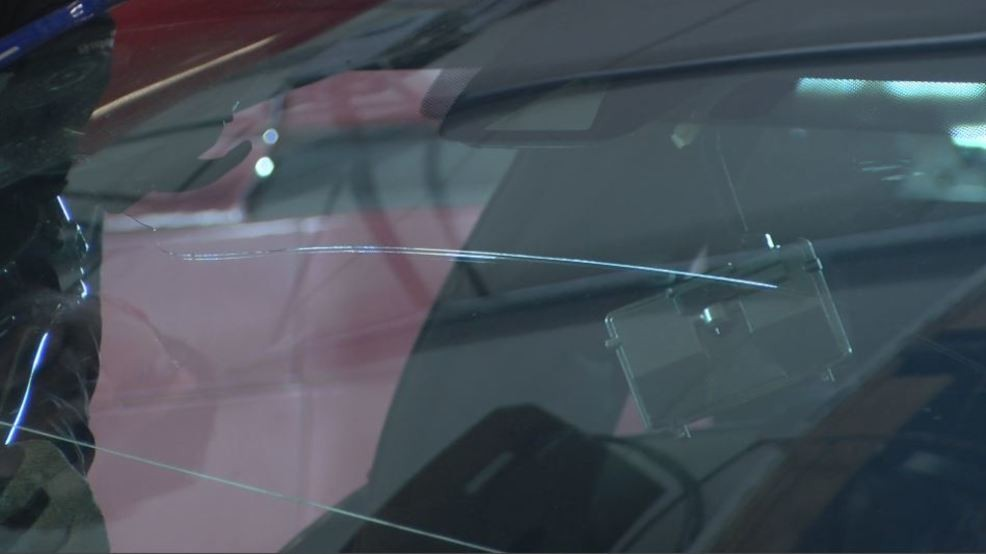scratch: (147, 211, 815, 315), (11, 411, 492, 548)
